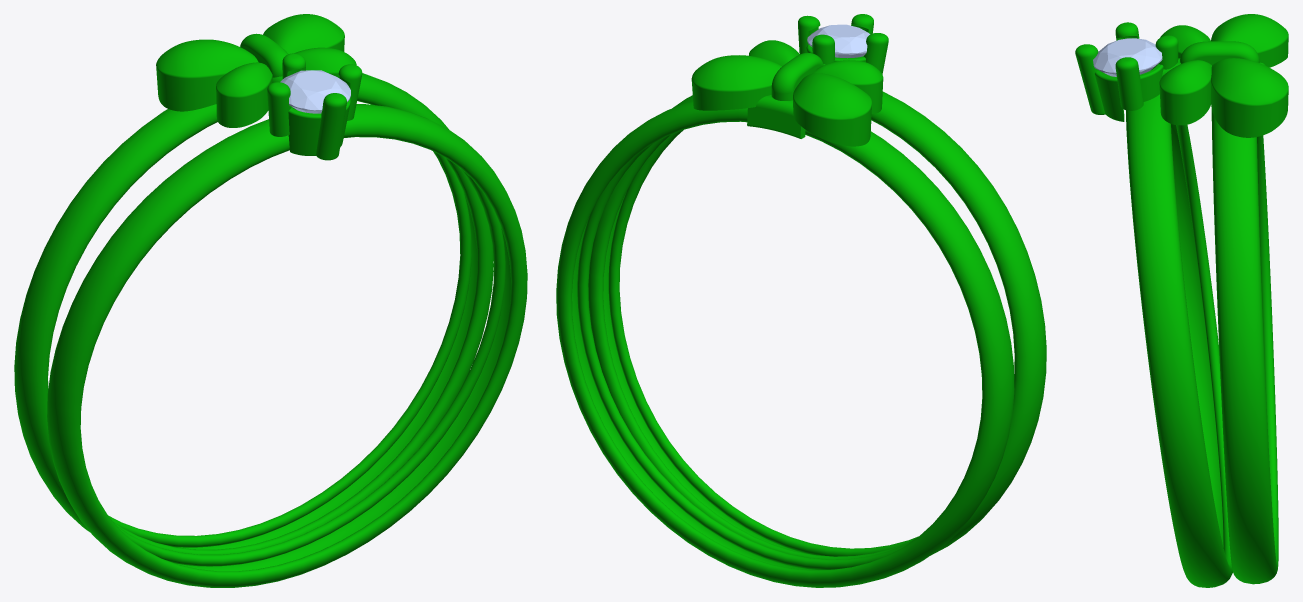
3 views of the same model, side by side, from view 1: azimuth 30°, elevation 25°; view 2: azimuth 150°, elevation 25°; view 3: azimuth 270°, elevation 25° (orthographic). The views are drawn at different scales.
Visible parts, largest first — view 1: 2.3dm; view 2: 2.3dm; view 3: 2.3dm.
Part boxes in pixels (<box>): 2.3dm: <box>14,14,527,587</box>; 2.3dm: <box>556,14,1046,587</box>; 2.3dm: <box>1075,14,1288,587</box>.
Size of the model in its own units: 2.6 by 2.85 by 1.05.
